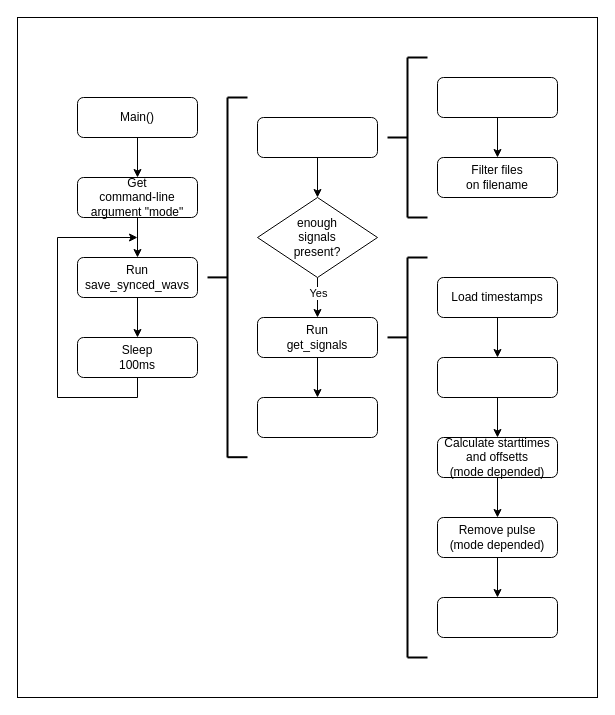
Some shapes in this 615 by 715 pixel diagram are drawn without their labels. Each missing label, with the centre of its shape:
Align files, ensuring equal lengths: [497,617]
Find position of pulse in signal (mode depended): [497,377]
Load files present in folder: [497,97]
Run load_wav_files: [317,137]
Save file with suffix "_synced_{counter}": [317,417]
